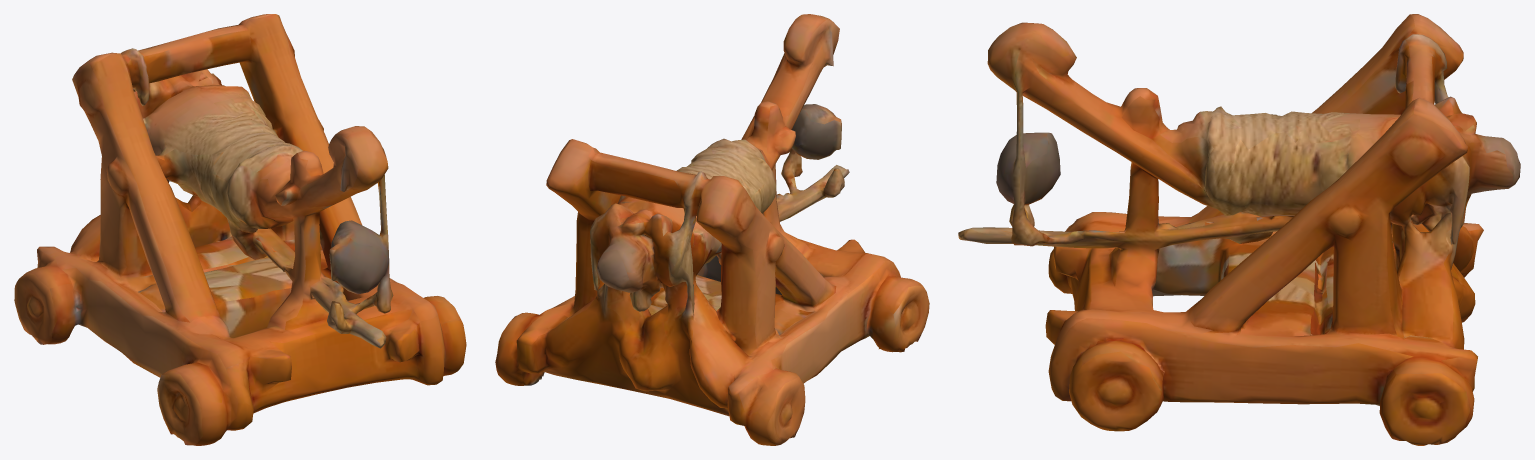
File: prop_catapult.glb
The picture shows the model from 3 angles, left to right: view 1: azimuth 30°, elevation 25°; view 2: azimuth 150°, elevation 25°; view 3: azimuth 270°, elevation 25°; orthographic projection. The views are drawn at different scales.
Parts seen in each view (by area): view 1: geometry_0; view 2: geometry_0; view 3: geometry_0.
Boxes of the visible parts, x1,y1,x2,y2 form: geometry_0: [14, 14, 466, 445]; geometry_0: [495, 14, 929, 445]; geometry_0: [958, 14, 1520, 445].
Size of the model in its own units: 1.07 by 1.01 by 1.53.
Materials: 1 (1 with a texture image).
